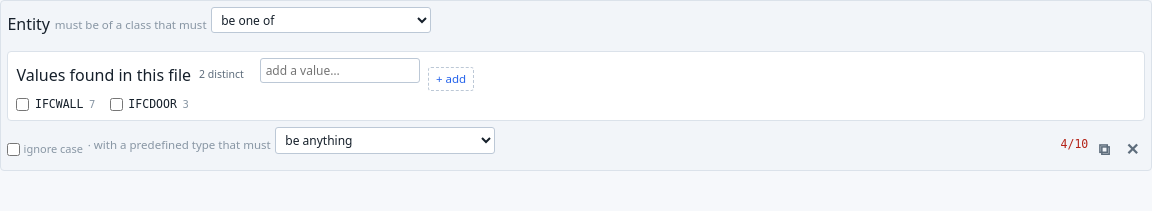
Test case: EntityRow — touched gating › shows no error for an empty enumeration until the row is touched
Check: the text "Tick at least one value" is not shown
Click the dropdown named "Predefined type operator".
click(386, 141)  # box [276, 128, 496, 154]
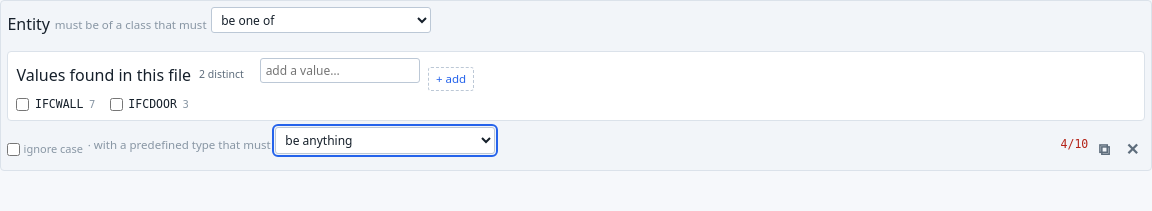
Press Tab
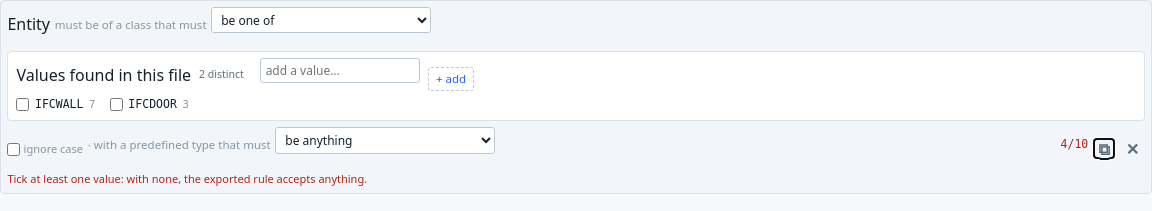
Check: the text "Tick at least one value" is shown, box [7, 171, 367, 186]
